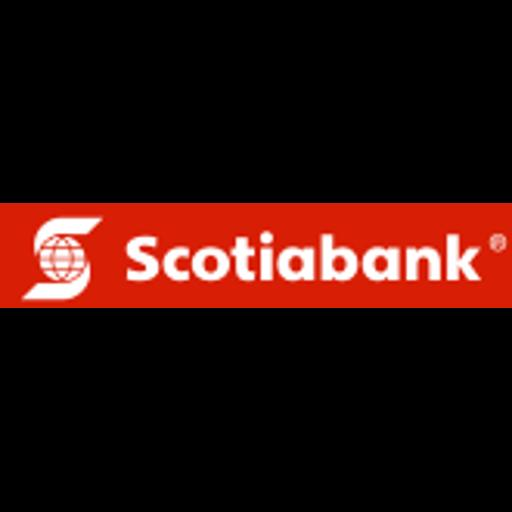Scotiabank: (0, 203, 512, 308)
